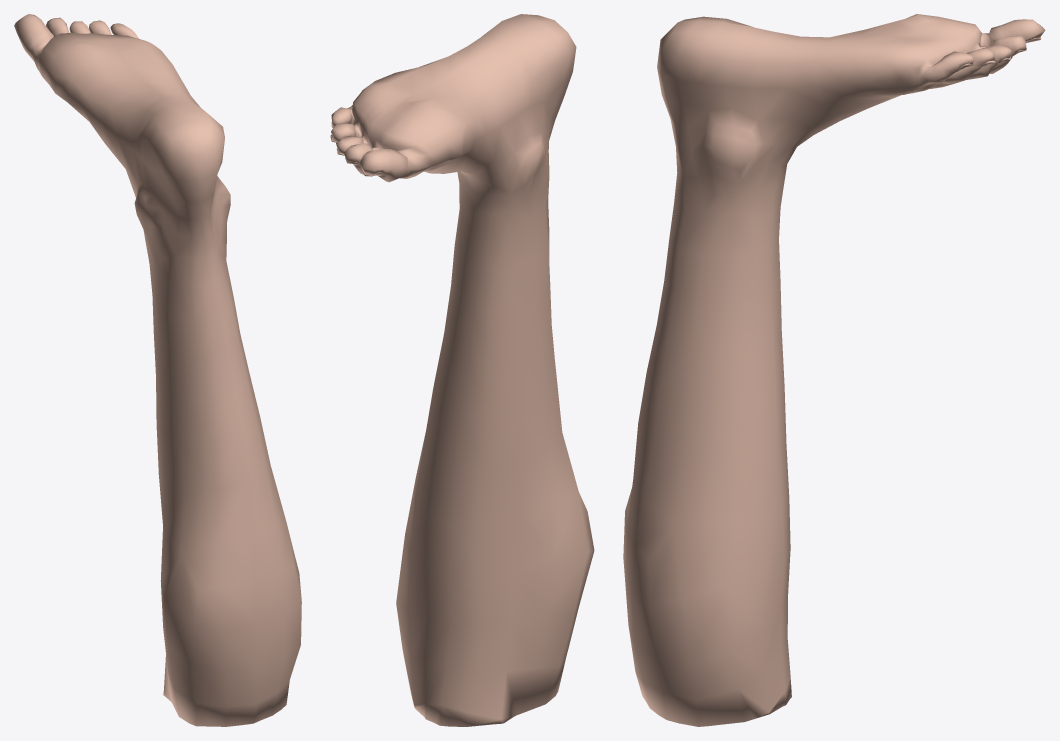
File: lower-leg-left.glb
The picture shows the model from 3 angles, left to right: view 1: azimuth 30°, elevation 25°; view 2: azimuth 150°, elevation 25°; view 3: azimuth 270°, elevation 25°; orthographic projection. The views are drawn at different scales.
Visible parts, largest first — view 1: lower-leg-left; view 2: lower-leg-left; view 3: lower-leg-left.
Part boxes in pixels (left/top/right/bottom): lower-leg-left: left=14, top=14, right=301, bottom=726; lower-leg-left: left=330, top=14, right=594, bottom=726; lower-leg-left: left=623, top=14, right=1045, bottom=726.
Size of the model in its own units: 0.1015 by 0.4 by 0.2332.
